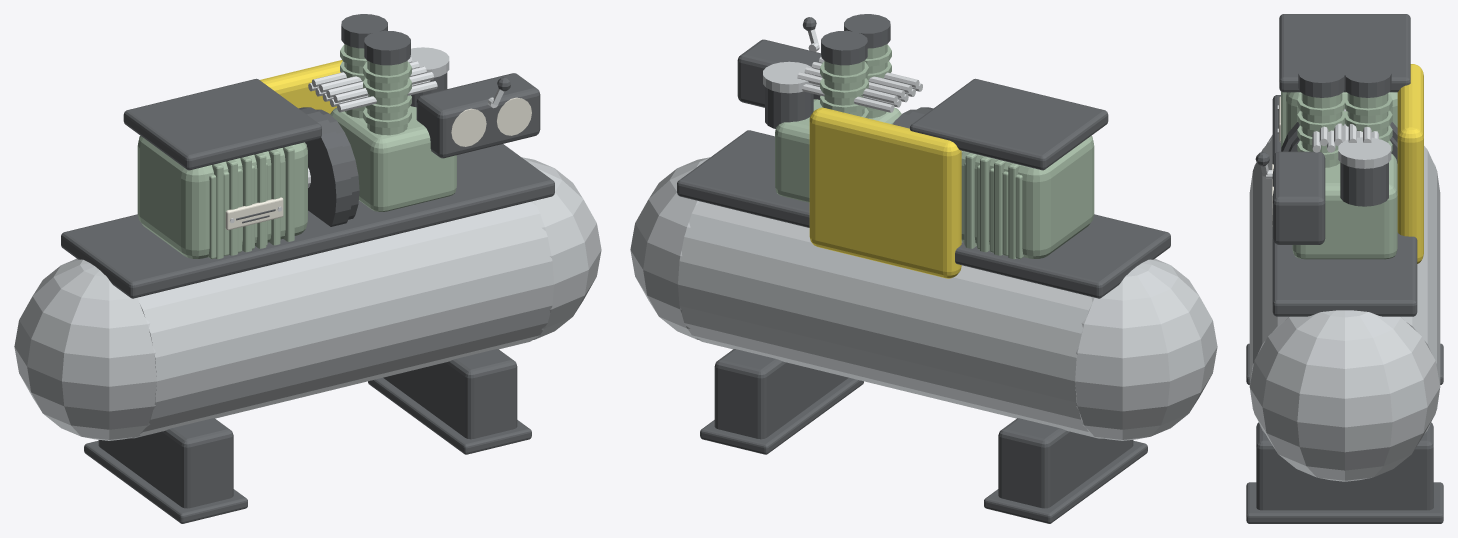
Rendered from FactoryCompressor.glb.
3 views of the same model, side by side, from view 1: azimuth 30°, elevation 25°; view 2: azimuth 150°, elevation 25°; view 3: azimuth 270°, elevation 25° (orthographic).
Parts seen in each view (by area): view 1: machine-shop-and-factory-hall-air-compressor, flywheel-spincharcoal; view 2: machine-shop-and-factory-hall-air-compressor; view 3: machine-shop-and-factory-hall-air-compressor, flywheel-spincharcoal.
Boxes of the visible parts, left/top/right/bottom form: machine-shop-and-factory-hall-air-compressor: left=14, top=14, right=601, bottom=523; flywheel-spincharcoal: left=298, top=107, right=359, bottom=226; machine-shop-and-factory-hall-air-compressor: left=630, top=14, right=1217, bottom=523; machine-shop-and-factory-hall-air-compressor: left=1246, top=14, right=1443, bottom=523; flywheel-spincharcoal: left=1281, top=122, right=1397, bottom=163.
Bounding box in the file's own units: 2.82 × 1.91 × 0.8544.
